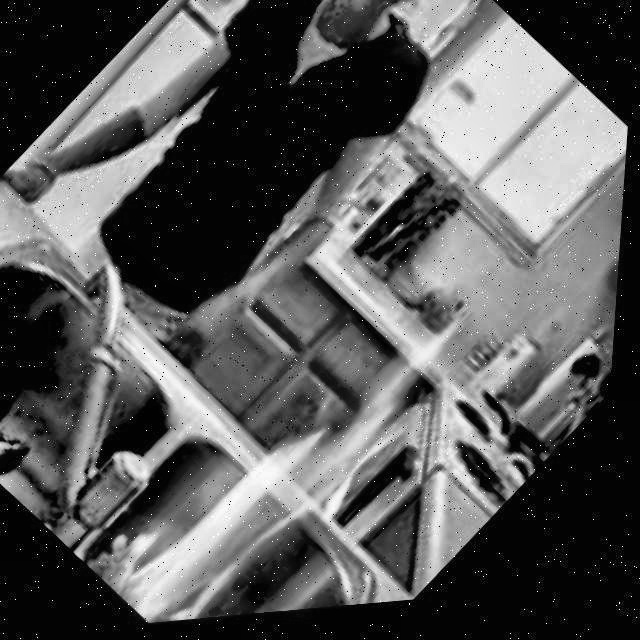Fire: (106, 276, 494, 630)
